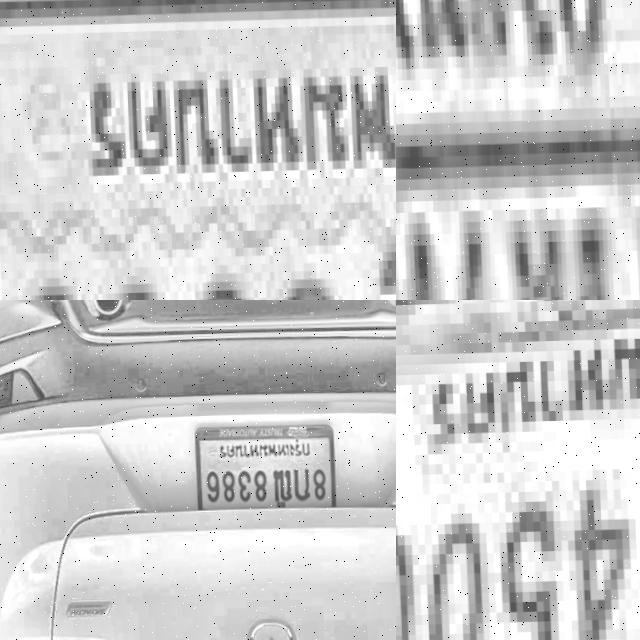license-plate: (0, 0, 396, 300), (396, 300, 640, 640), (396, 0, 640, 300), (190, 418, 336, 516)
